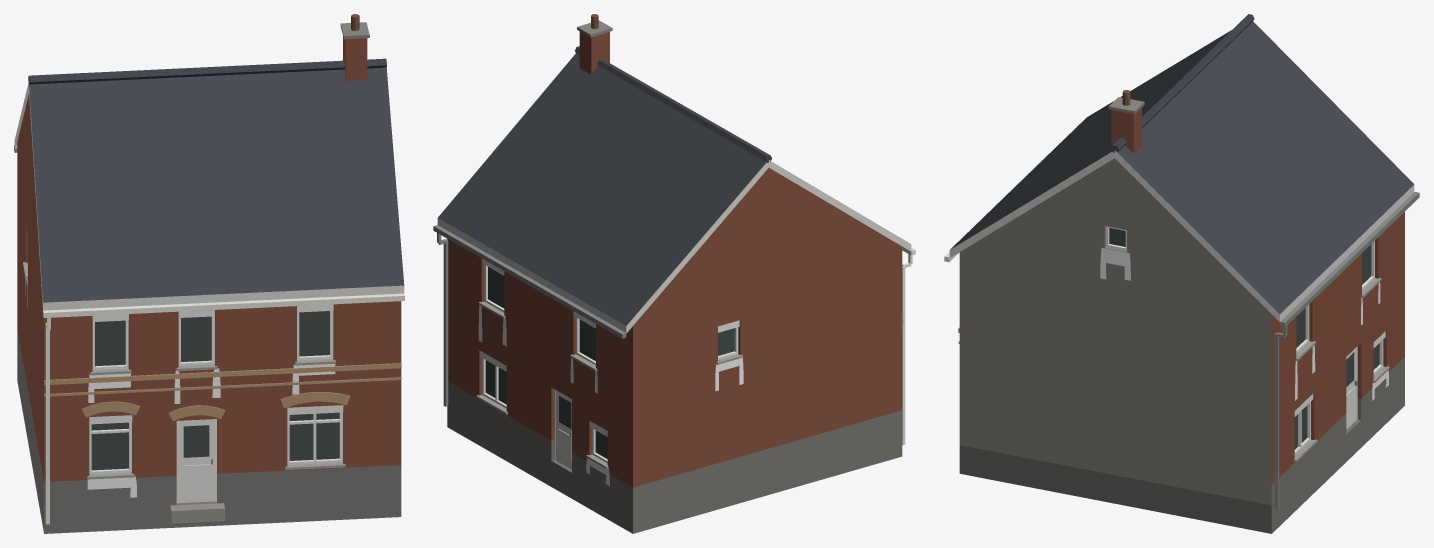
File: vh_terrace.glb
3 renders of one model, left to right at view 1: azimuth 30°, elevation 25°; view 2: azimuth 150°, elevation 25°; view 3: azimuth 270°, elevation 25°, orthographic. The views are drawn at different scales.
Visible parts, largest first — view 1: vh_roof, vh_brick, vh_trim, vh_glass, vh_frames_small, vh_stone, vh_streaks_small; view 2: vh_brick, vh_roof, vh_trim, vh_frames_small, vh_glass, vh_stone, vh_streaks_small; view 3: vh_render, vh_roof, vh_trim, vh_brick, vh_frames_small, vh_glass, vh_stone, vh_streaks_small.
Boxes of the visible parts, left/top/right/bottom form: vh_roof: left=28, top=58, right=404, bottom=302; vh_brick: left=17, top=36, right=401, bottom=481; vh_trim: left=14, top=83, right=404, bottom=533; vh_glass: left=91, top=311, right=339, bottom=470; vh_frames_small: left=14, top=145, right=404, bottom=524; vh_stone: left=23, top=14, right=401, bottom=523; vh_streaks_small: left=25, top=277, right=335, bottom=497; vh_brick: left=447, top=31, right=902, bottom=487; vh_roof: left=438, top=46, right=771, bottom=325; vh_trim: left=437, top=160, right=911, bottom=533; vh_frames_small: left=433, top=225, right=915, bottom=463; vh_glass: left=485, top=267, right=734, bottom=458; vh_stone: left=476, top=14, right=903, bottom=468; vh_streaks_small: left=478, top=305, right=743, bottom=485; vh_render: left=959, top=158, right=1271, bottom=505; vh_roof: left=950, top=14, right=1414, bottom=313; vh_trim: left=949, top=150, right=1414, bottom=533; vh_brick: left=1111, top=107, right=1404, bottom=484; vh_frames_small: left=944, top=192, right=1419, bottom=509; vh_glass: left=1109, top=228, right=1379, bottom=449; vh_stone: left=958, top=90, right=1389, bottom=462; vh_streaks_small: left=1100, top=247, right=1388, bottom=400.
Bounding box in the file's own units: 11.52 × 10.85 × 11.63.
